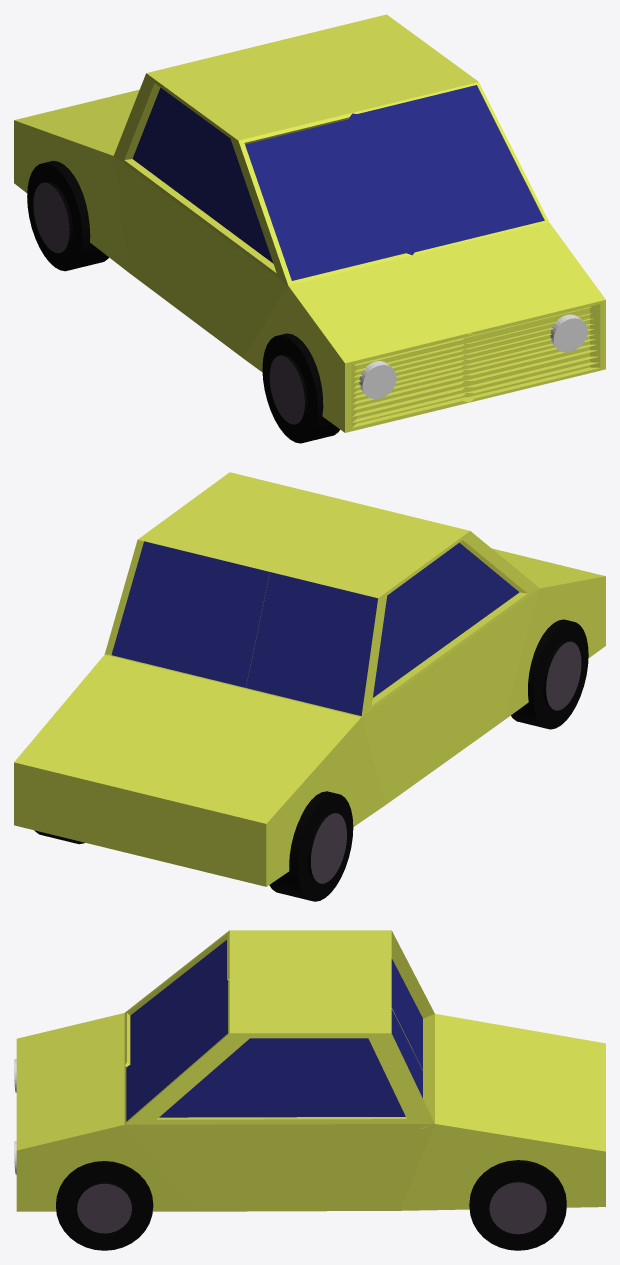
File: ShakalCar.fbx
3 views of the same model, one above another, from view 1: azimuth 30°, elevation 25°; view 2: azimuth 150°, elevation 25°; view 3: azimuth 270°, elevation 25° (orthographic). The views are drawn at different scales.
Parts seen in each view (by area): view 1: Cube, Цилиндр, Цилиндр.001, Цилиндр.002; view 2: Cube, Цилиндр; view 3: Cube, Цилиндр.
Part boxes in pixels (bbox=[...]): Cube: bbox=[14, 14, 605, 432]; Цилиндр: bbox=[27, 161, 339, 443]; Цилиндр.001: bbox=[550, 314, 587, 352]; Цилиндр.002: bbox=[359, 361, 396, 399]; Cube: bbox=[14, 472, 605, 886]; Цилиндр: bbox=[34, 619, 588, 901]; Cube: bbox=[16, 930, 605, 1211]; Цилиндр: bbox=[56, 1160, 566, 1250].
Bounding box in the file's own units: 232 × 192 × 485.
